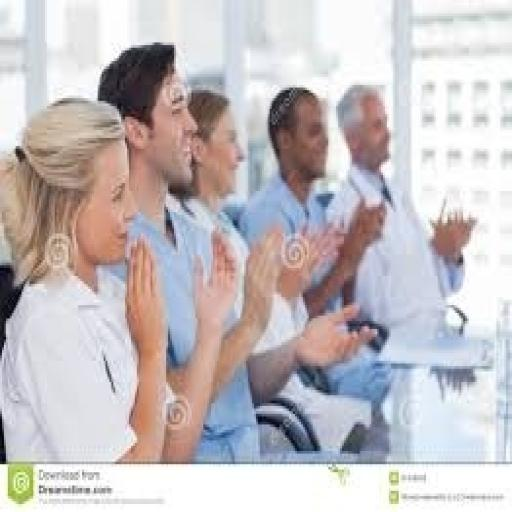clapping: (150, 40, 437, 426), (0, 92, 238, 464), (107, 47, 317, 420), (322, 80, 477, 352)
